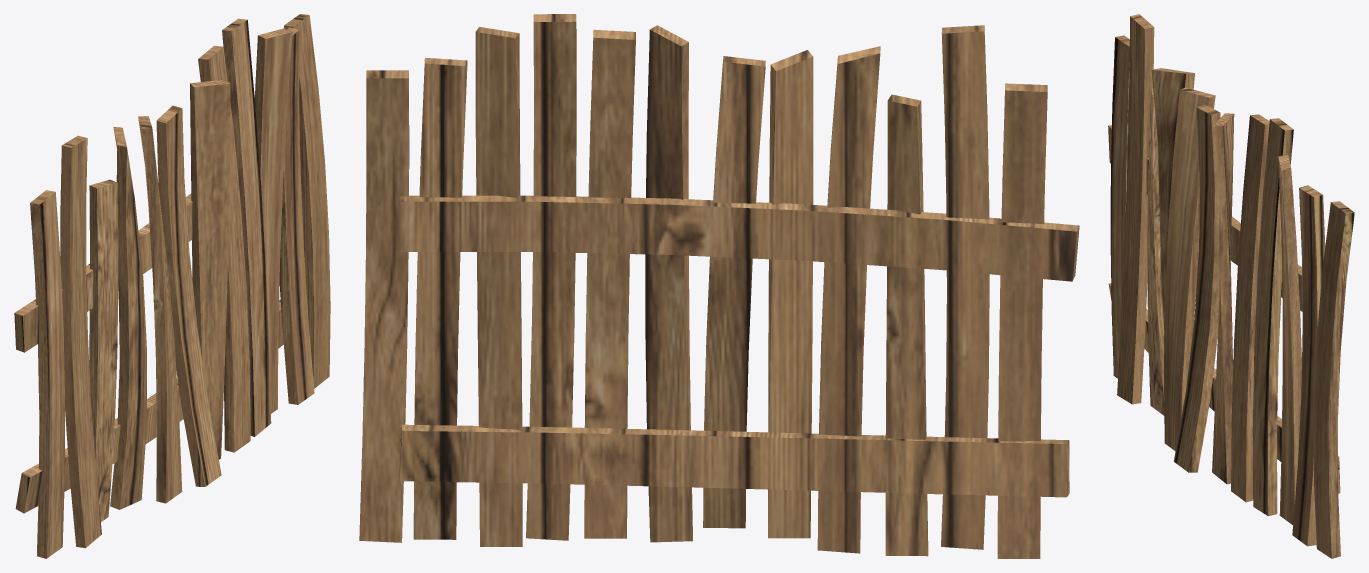
Rendered from Fence_door.fbx.
The picture shows the model from 3 angles, left to right: view 1: azimuth 30°, elevation 25°; view 2: azimuth 150°, elevation 25°; view 3: azimuth 270°, elevation 25°; orthographic projection. The views are drawn at different scales.
Visible parts, largest first — view 1: Old_Fence26:Old_Fence; view 2: Old_Fence26:Old_Fence; view 3: Old_Fence26:Old_Fence.
Boxes of the visible parts, bbox=[...] form: Old_Fence26:Old_Fence: bbox=[14, 14, 330, 558]; Old_Fence26:Old_Fence: bbox=[359, 14, 1079, 558]; Old_Fence26:Old_Fence: bbox=[1108, 14, 1354, 558].
Size of the model in its own units: 58.08 by 52.29 by 30.65.
Materials: 1 (1 with a texture image).
